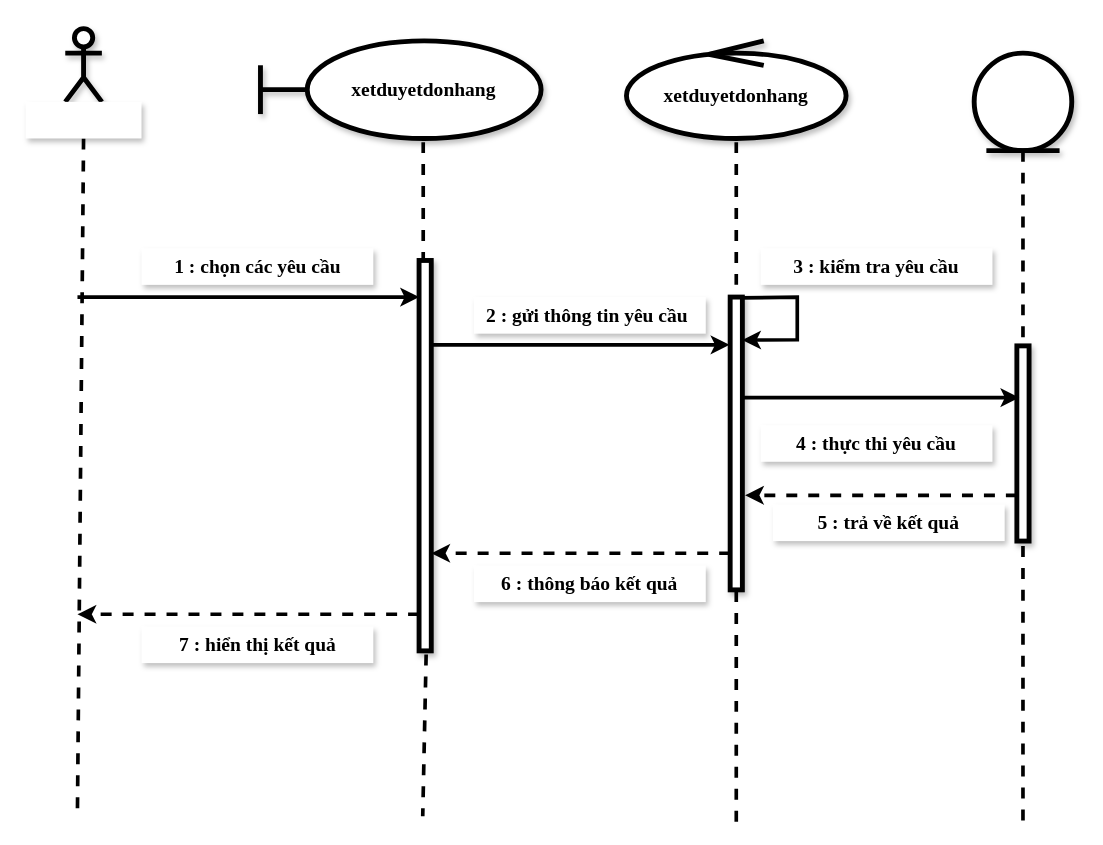
This 1103x845 diagram has some shape labels left out. The shapes that lost their labels are listed below. From the top down, each one's centre as x and y in pixels, then its label:
pixel 84 66: Actor
pixel 84 121: admin
pixel 1023 103: csdl
